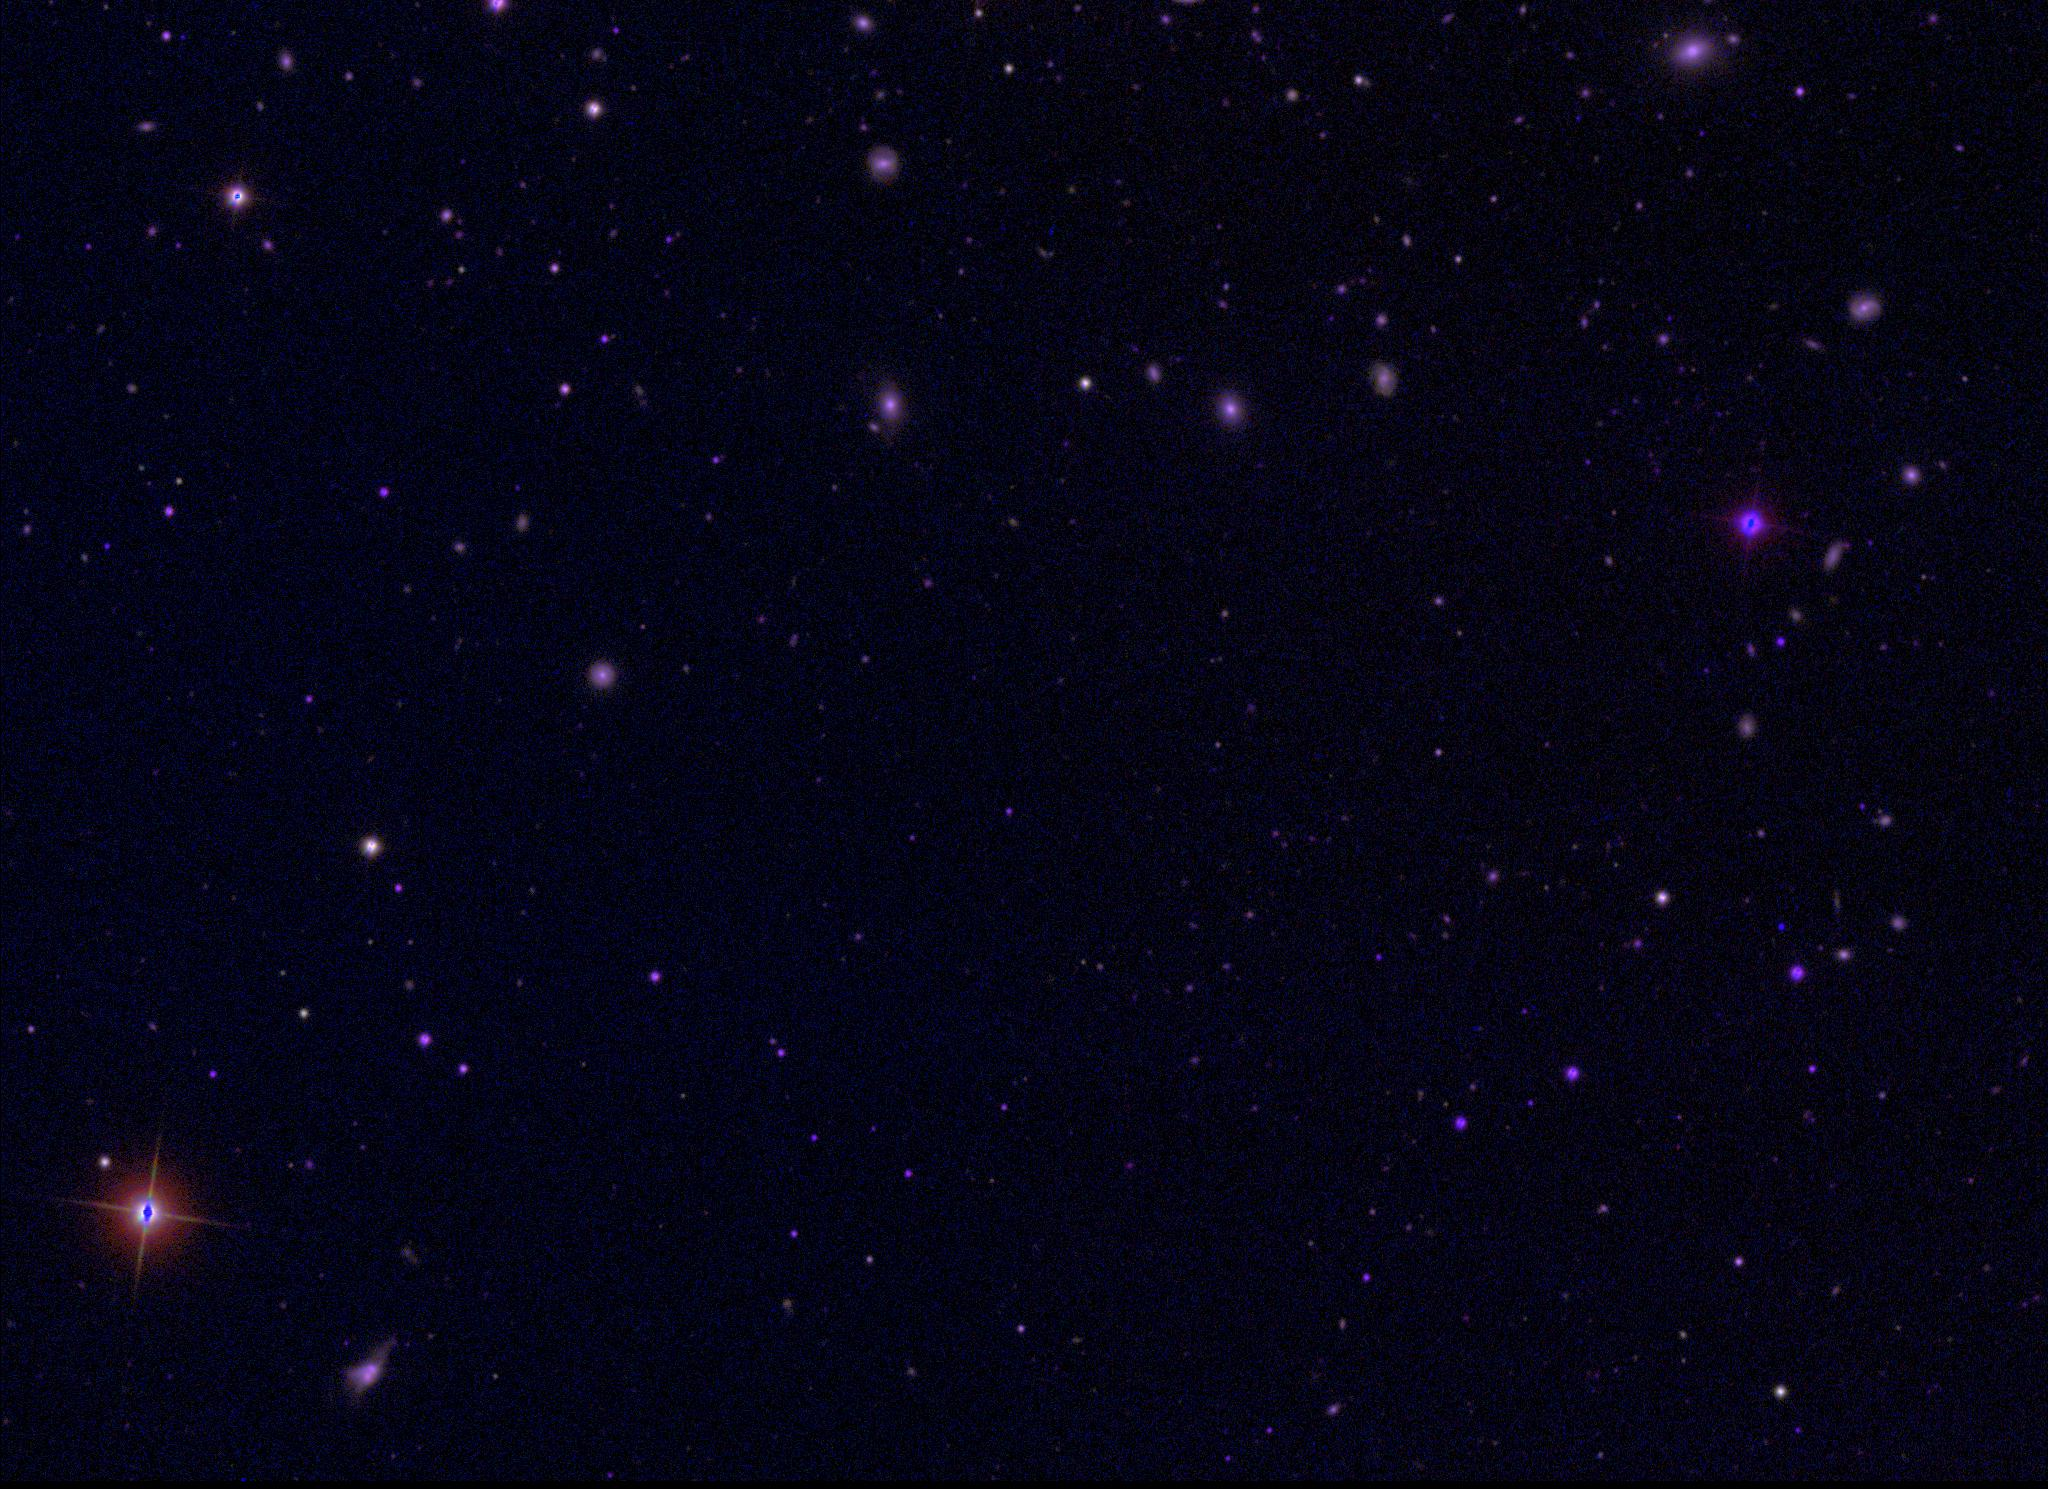L: (1773, 919, 1787, 934)
